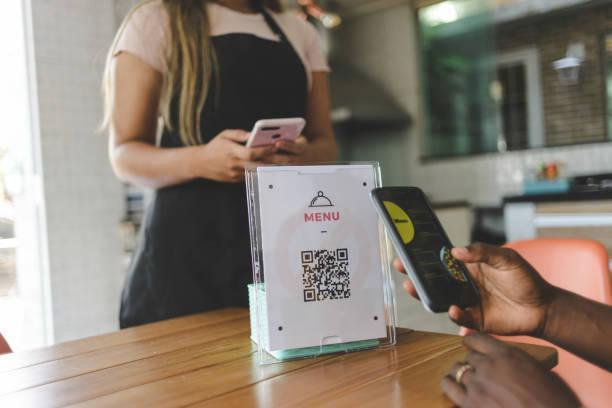qr_code: (301, 248, 351, 302)
